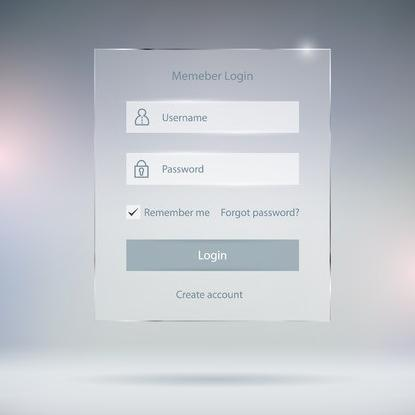button: (124, 238, 300, 273)
checkbox: (123, 203, 143, 221)
checkbox_with_label: (122, 201, 300, 223)
field: (125, 152, 301, 187), (124, 100, 300, 134)
